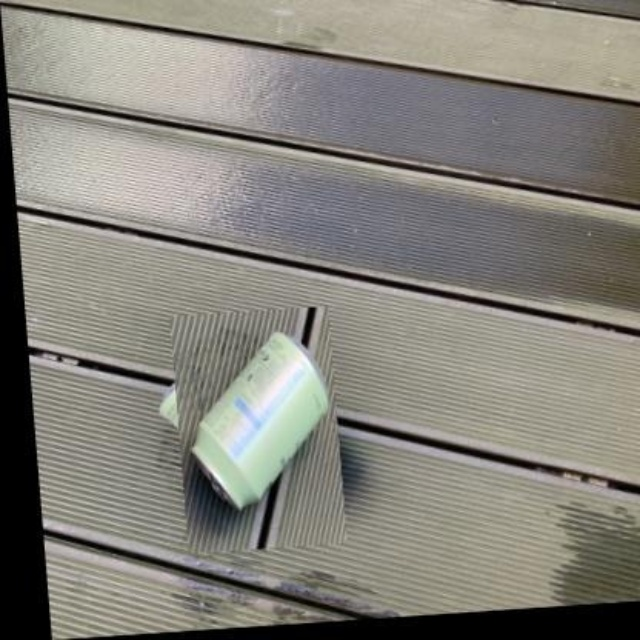trash: (192, 332, 328, 508)
